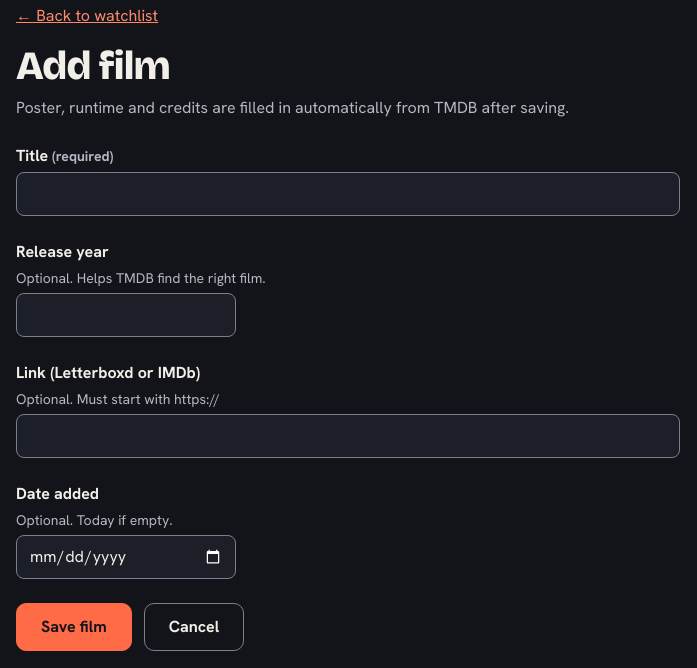
FilmFormView: add › shows other errors in an alert and stays on the form
This screenshot has width=697, height=668.
Step 1. Type "Joy" into the field with id "film-title" → (348, 194), box [16, 172, 680, 216]
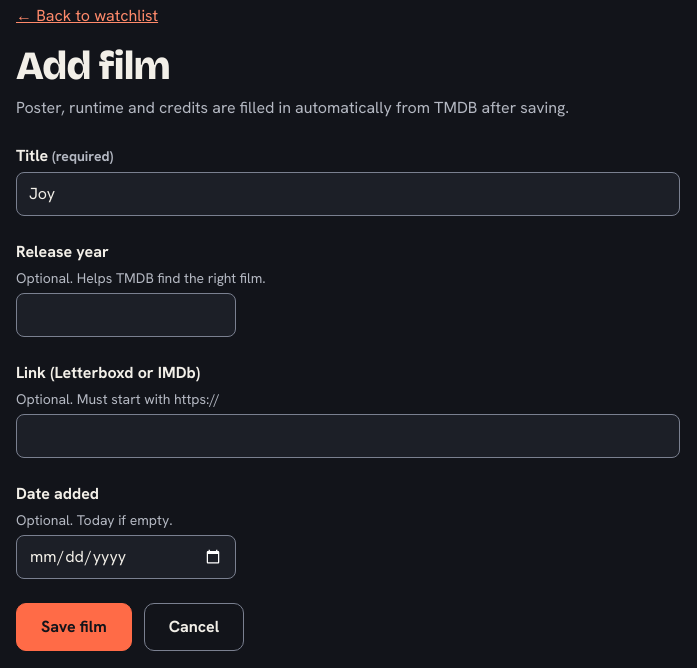
Step 2. Submit the form
(page scrolled)
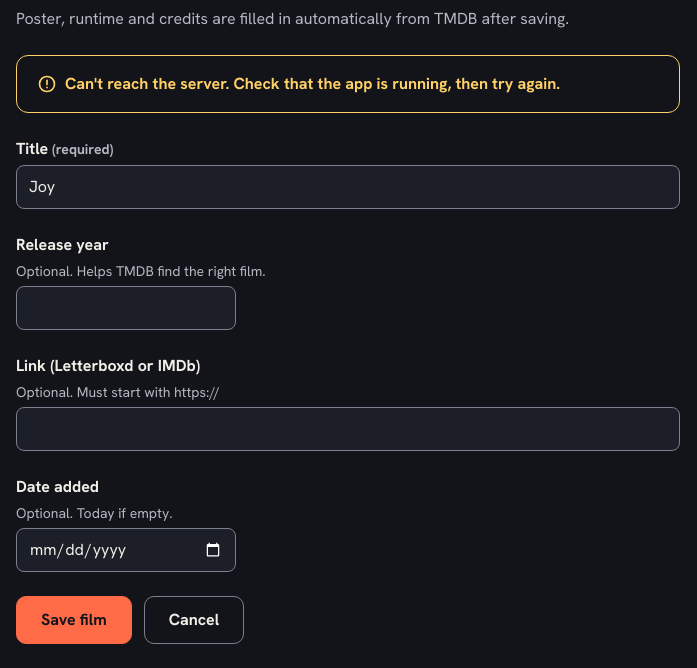
Expected: the submit button is enabled, [16, 596, 132, 644]
Expected: the message "Can't reach the server. Check that the app is running, then try again." is shown, [16, 55, 680, 113]
